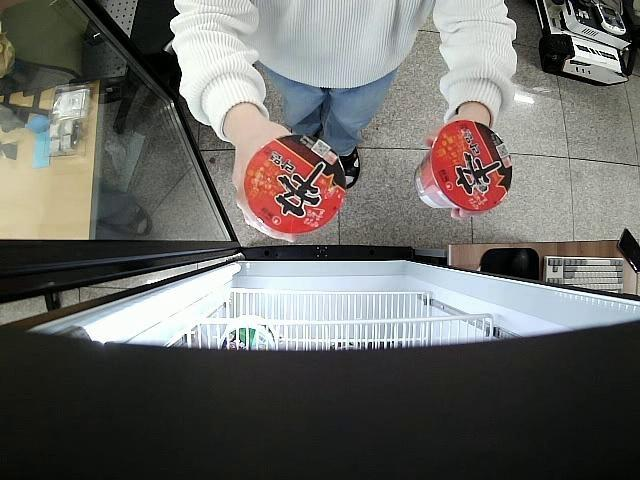02_shinRamen_S: (243, 133, 346, 234), (412, 120, 513, 214)
